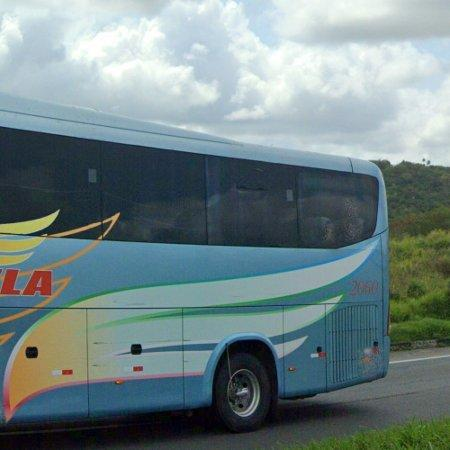buses: (0, 94, 389, 432)
